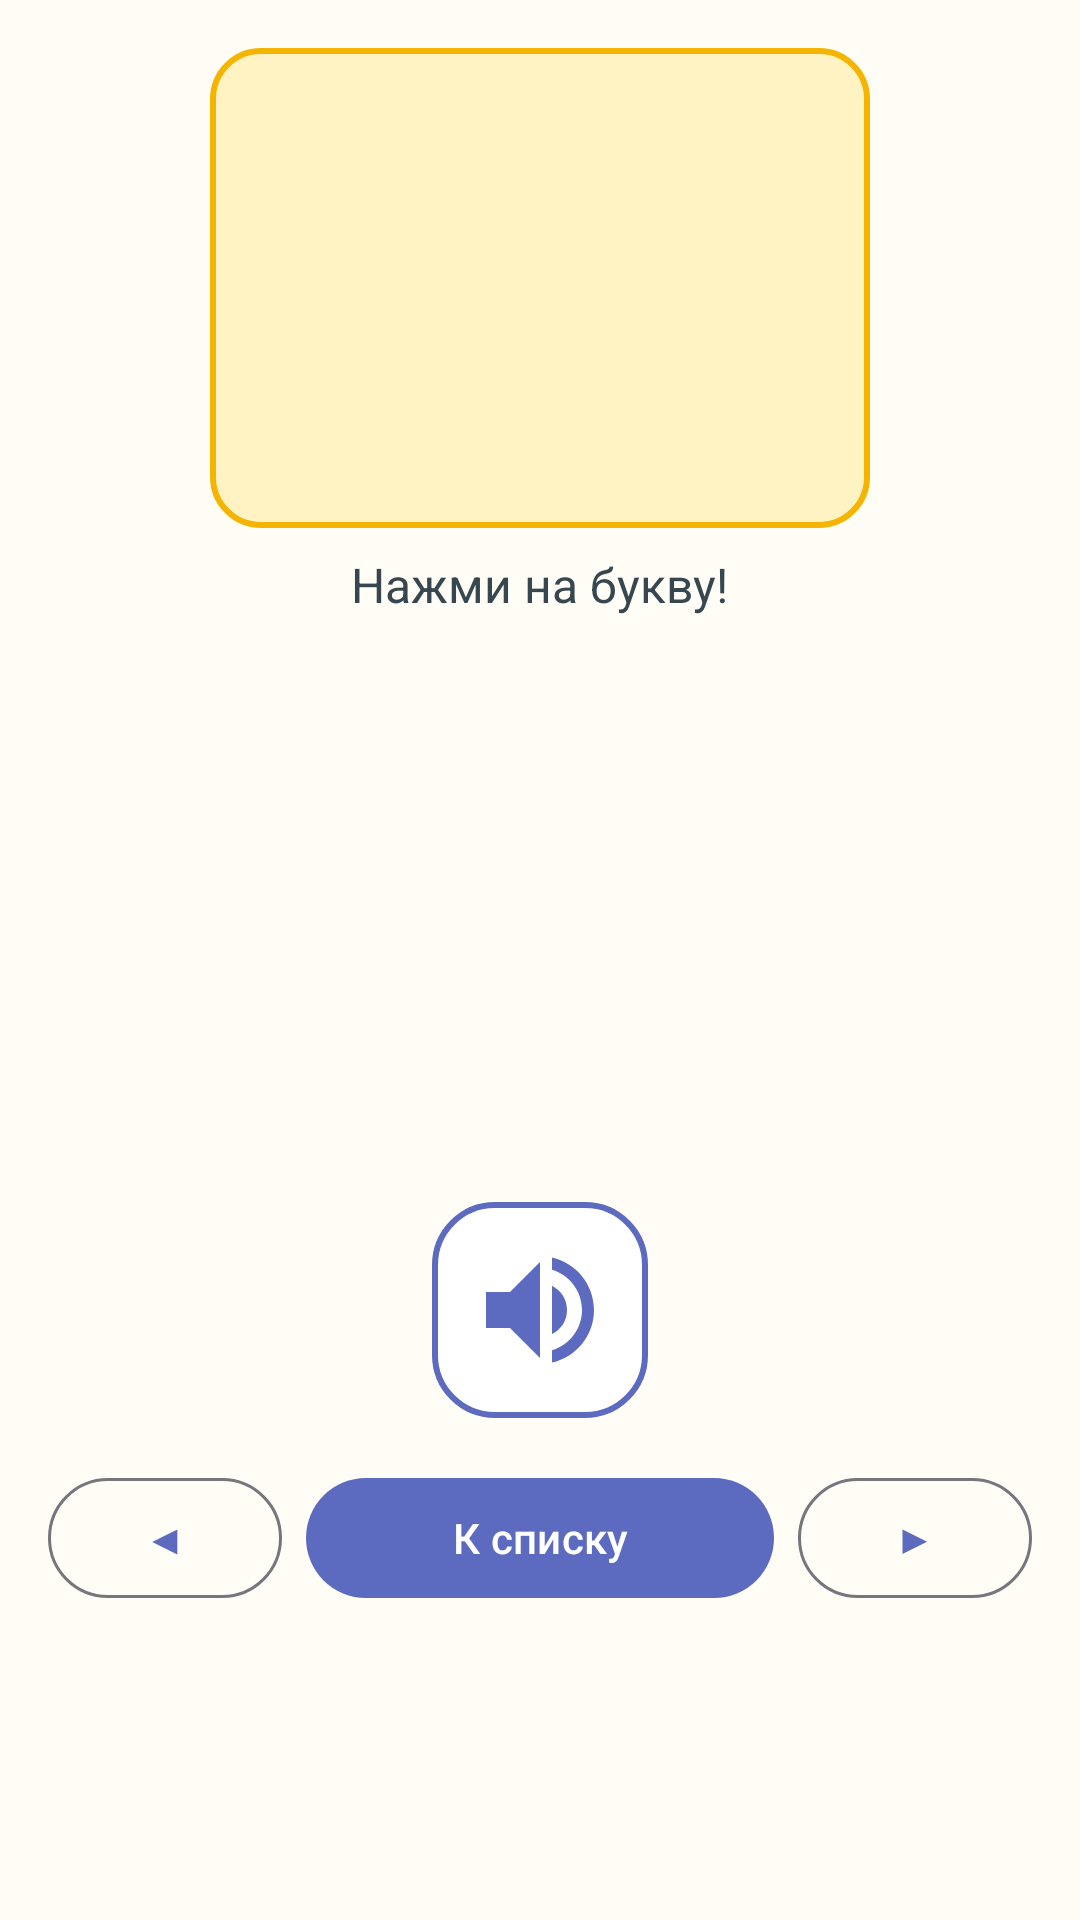

Where icons sit on this 1080 x 1920 app screen, as (x1, y1, x2, y2):
Озвучить: (432, 1202, 648, 1418)
